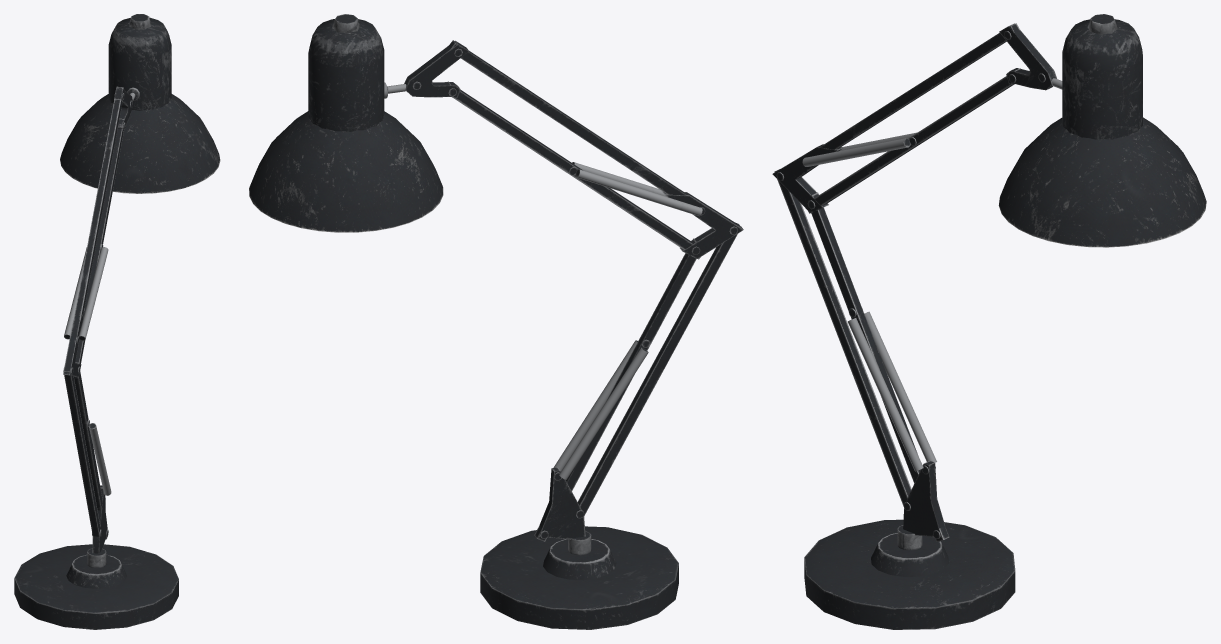
The model's file is TableLamp.fbx.
The picture shows the model from 3 angles, left to right: view 1: azimuth 30°, elevation 25°; view 2: azimuth 150°, elevation 25°; view 3: azimuth 270°, elevation 25°; orthographic projection. The views are drawn at different scales.
Visible parts, largest first — view 1: TableLamp; view 2: TableLamp; view 3: TableLamp.
Boxes of the visible parts, bbox=[...] form: TableLamp: bbox=[14, 14, 220, 629]; TableLamp: bbox=[249, 14, 743, 629]; TableLamp: bbox=[772, 14, 1206, 629].
Bounding box in the file's own units: 64.3 × 112 × 68.67.
